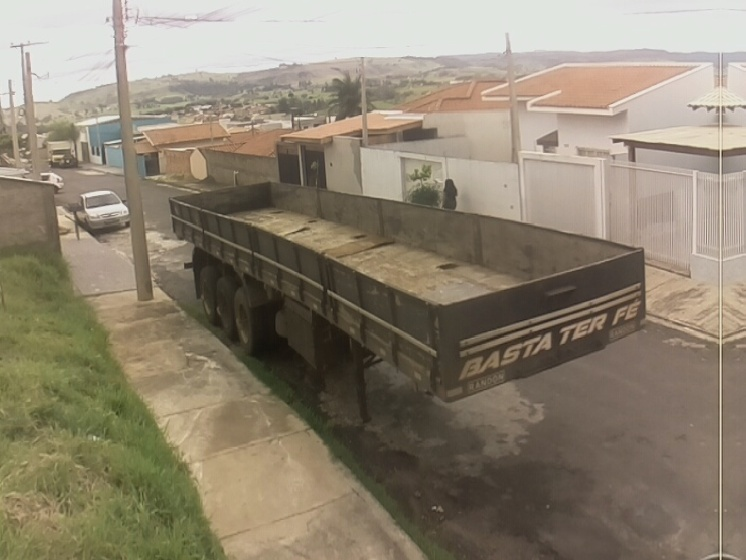person: (440, 176, 458, 211)
